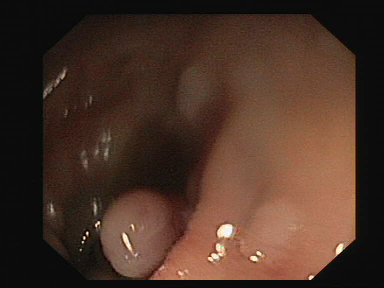polyp: (90, 189, 196, 274)
